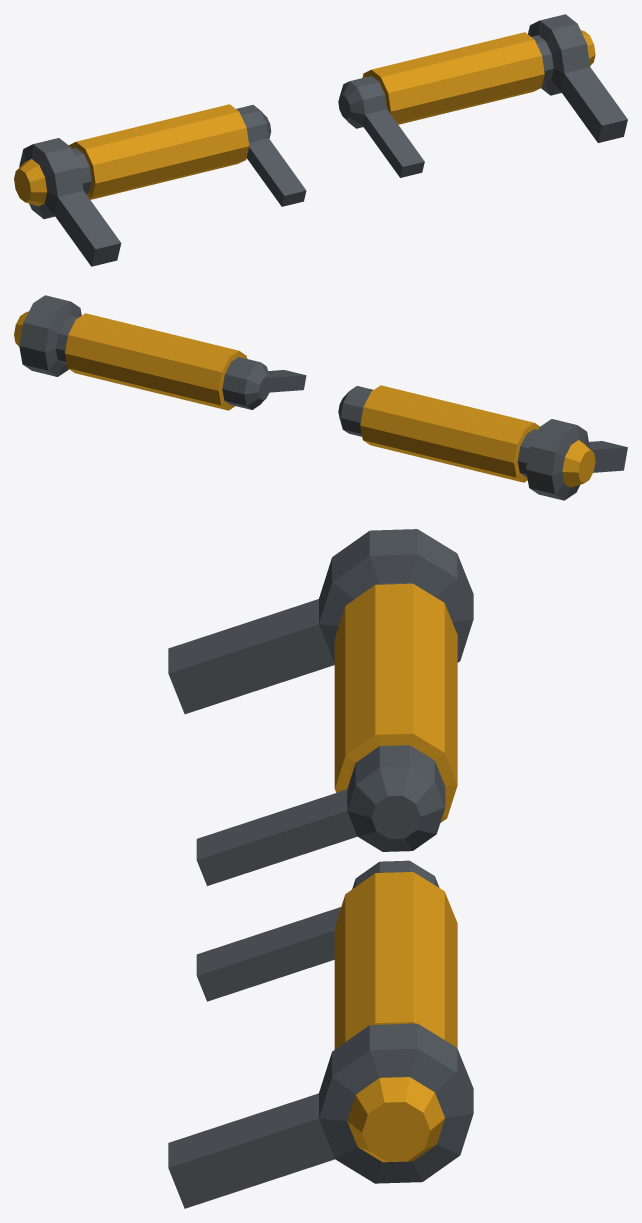
Rendered from Personal_Vehicle_01_Handlebars_Yellow.fbx.
3 renders of one model, top to bottom at view 1: azimuth 30°, elevation 25°; view 2: azimuth 150°, elevation 25°; view 3: azimuth 270°, elevation 25°, orthographic. The views are drawn at different scales.
Visible parts, largest first — view 1: Personal_Vehicle_01_Handlebars_Yellow; view 2: Personal_Vehicle_01_Handlebars_Yellow; view 3: Personal_Vehicle_01_Handlebars_Yellow.
Boxes of the visible parts, x1,y1,x2,y2 form: Personal_Vehicle_01_Handlebars_Yellow: [14, 14, 627, 266]; Personal_Vehicle_01_Handlebars_Yellow: [14, 295, 627, 500]; Personal_Vehicle_01_Handlebars_Yellow: [168, 529, 473, 1208].
Bounding box in the file's own units: 78.64 × 10.66 × 18.41.
1 material, 1 textured.
